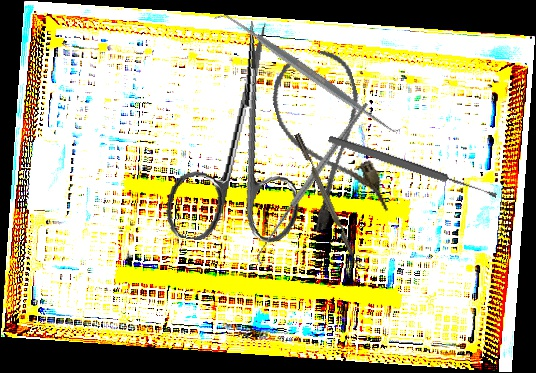Cannula: (262, 44, 392, 234)
Chopper: (294, 129, 367, 272)
Hook Surgical: (217, 102, 410, 266)
Iris Scissors: (163, 13, 321, 252)
Spatula Surgical: (212, 1, 404, 145)
Surgical Spoon: (327, 133, 498, 202)
